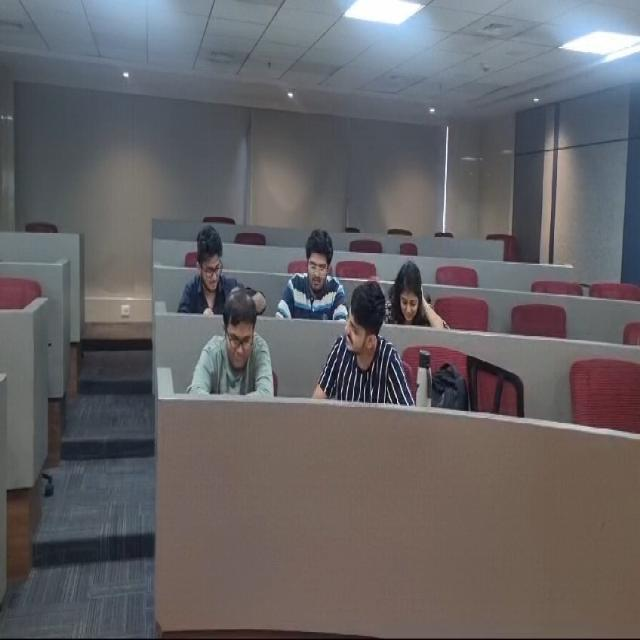cheating: (328, 274, 400, 388), (383, 248, 451, 335), (176, 229, 239, 319)
non-cheating: (204, 276, 268, 402), (277, 229, 345, 312)
